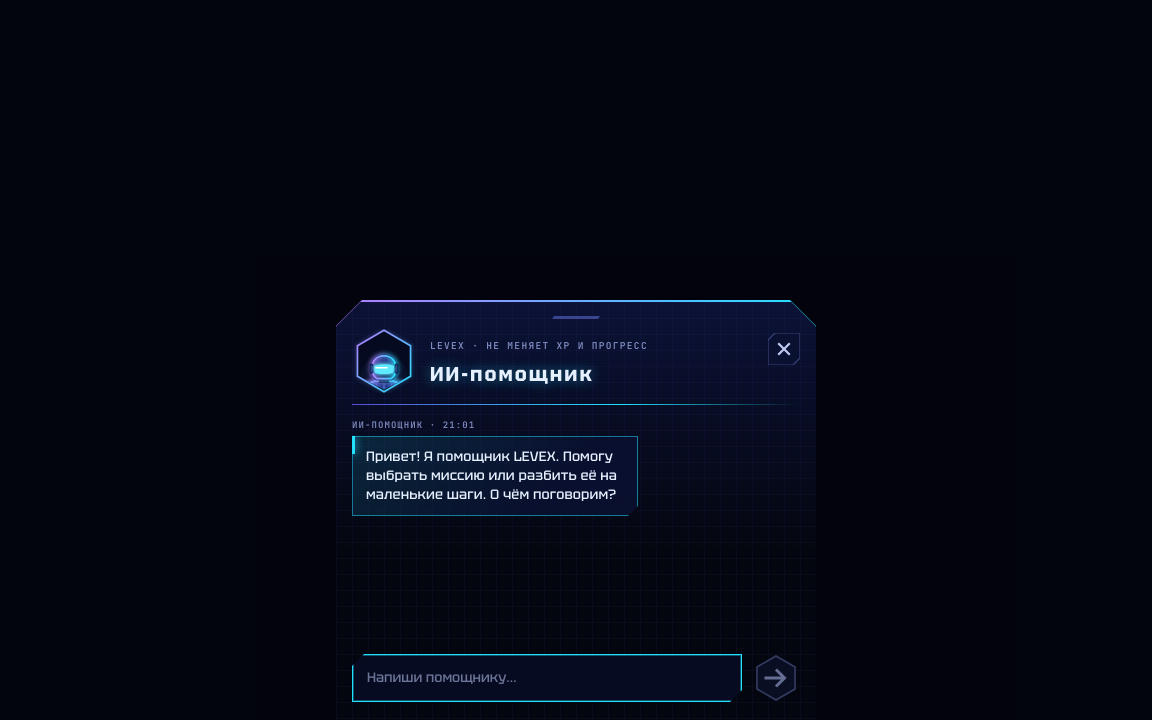
AssistantChat › stops a pending answer: back to idle, the late answer is dropped
The image size is (1152, 720).
Type "Привет" into the text box named "Сообщение помощнику" at (547, 678), box [352,654,742,702]
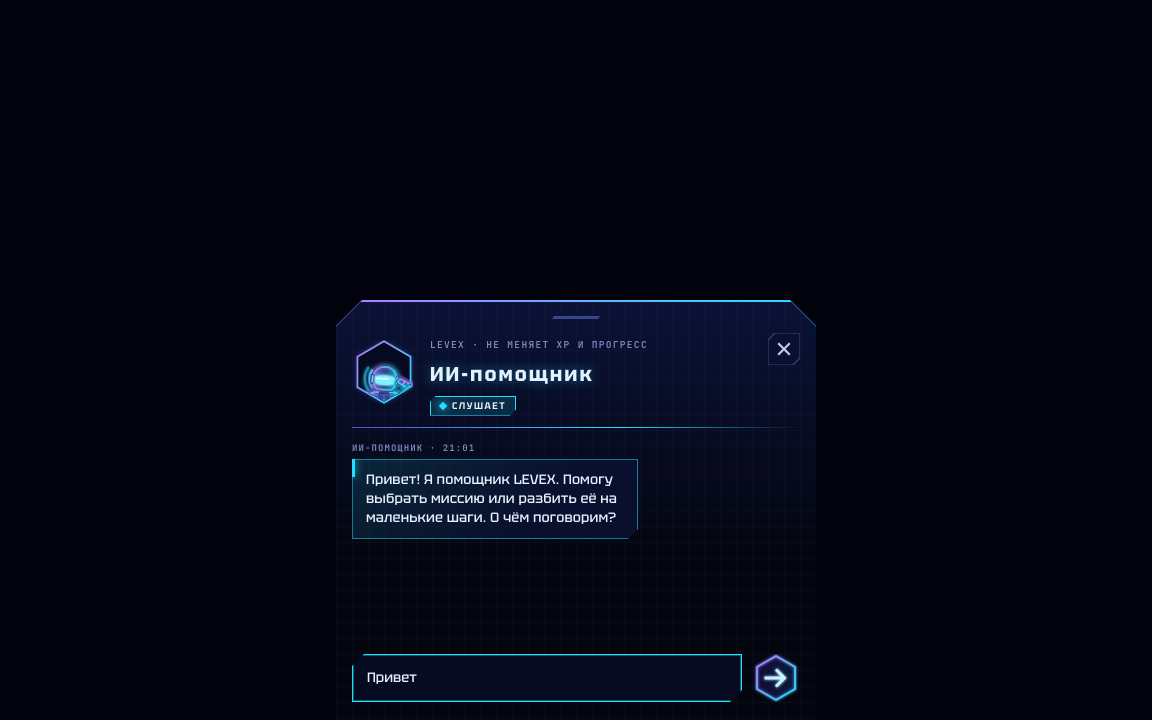
Click the button named "Отправить" at (776, 678), box [752,654,800,702]
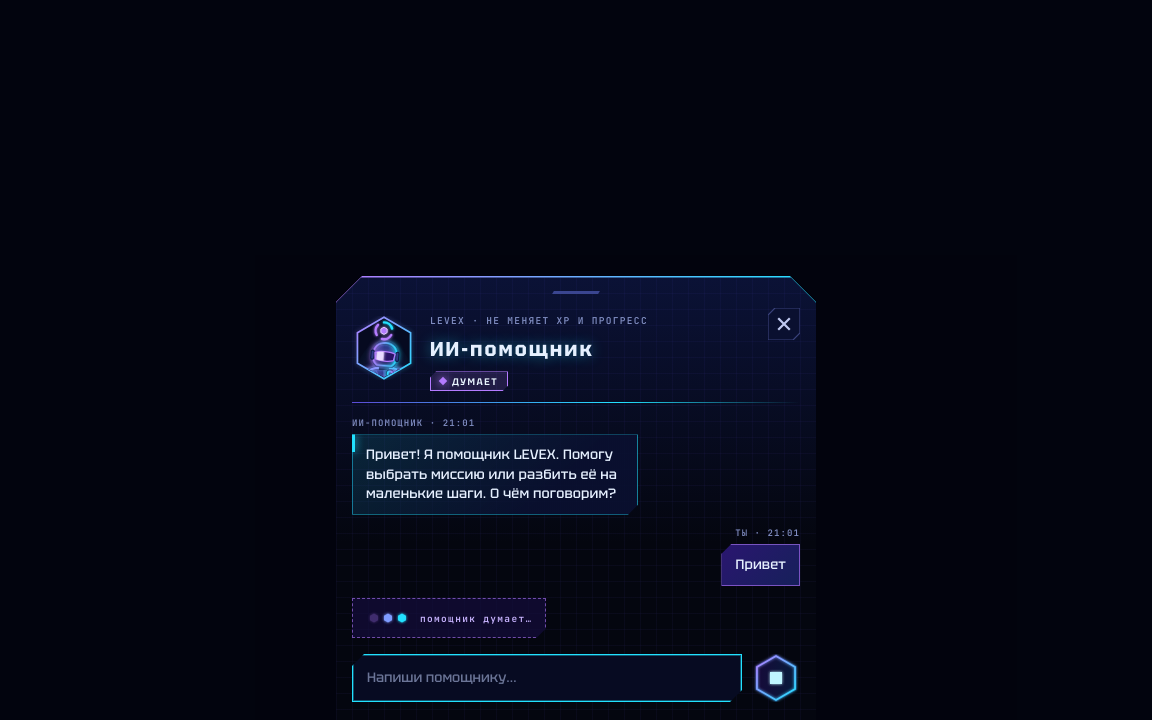
Click the button named "Остановить ответ" at (776, 678), box [752,654,800,702]
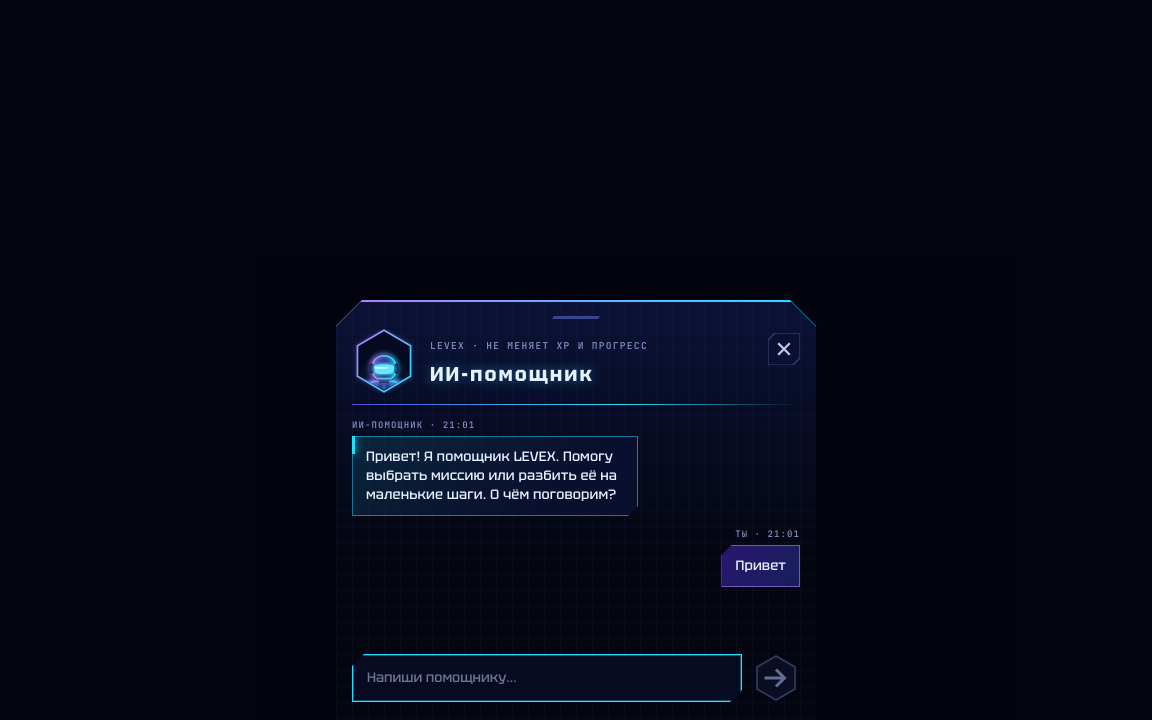
Expected: the message "помощник думает…" is gone
